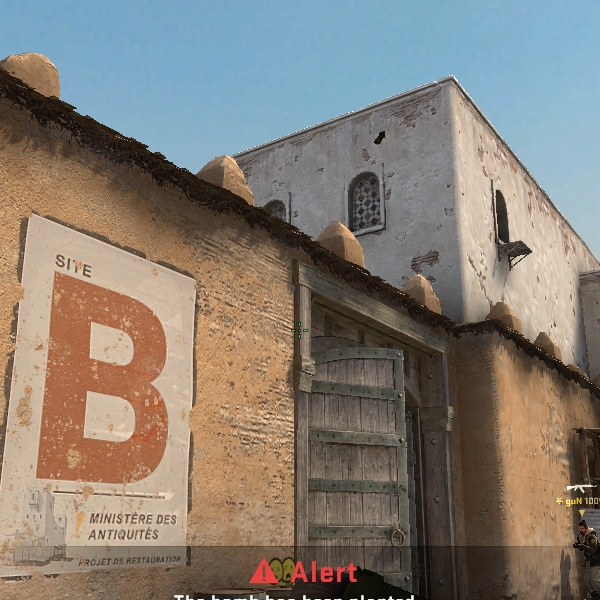t_body: (562, 512, 598, 600)
